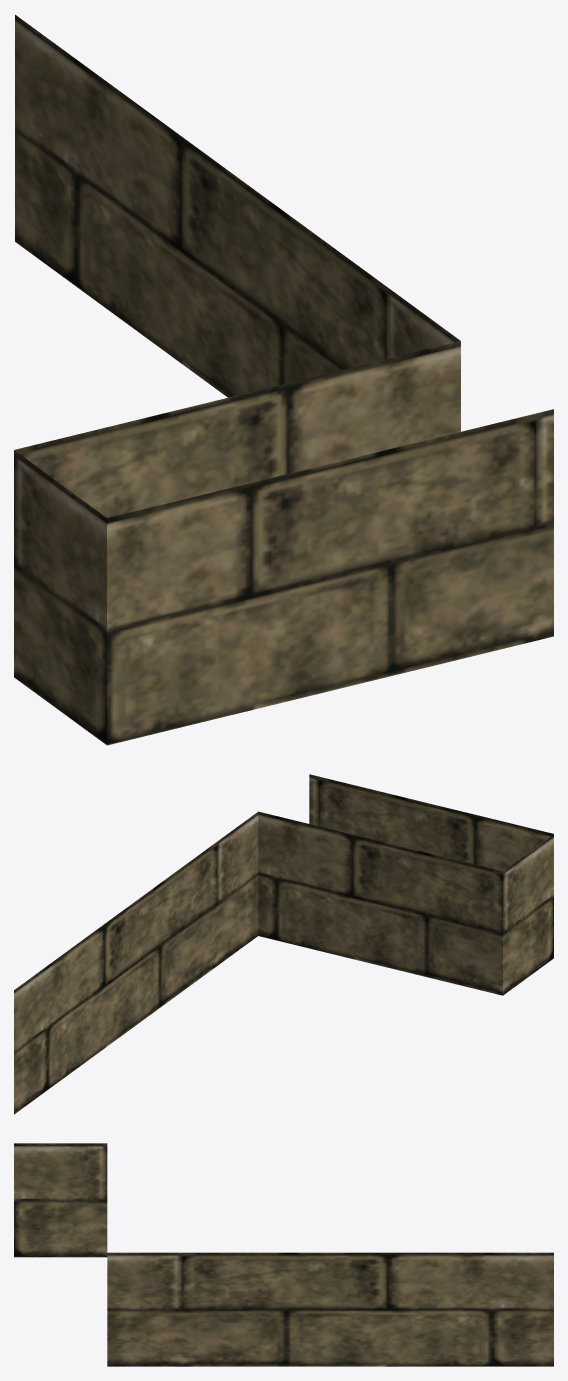
Rendered from OVERHILL_A_01_LINE155.fbx.
The picture shows the model from 3 angles, top to bottom: view 1: azimuth 30°, elevation 25°; view 2: azimuth 150°, elevation 25°; view 3: azimuth 270°, elevation 25°; orthographic projection. The views are drawn at different scales.
Visible parts, largest first — view 1: OVERHILL_A_01_LINE155; view 2: OVERHILL_A_01_LINE155; view 3: OVERHILL_A_01_LINE155.
Part boxes in pixels (box(x1,y1,x2,y2)): OVERHILL_A_01_LINE155: box(14, 14, 553, 745); OVERHILL_A_01_LINE155: box(14, 774, 553, 1114); OVERHILL_A_01_LINE155: box(14, 1143, 553, 1366).
Size of the model in its own units: 15001 by 7290 by 31329.
Materials: 1 (1 with a texture image).
